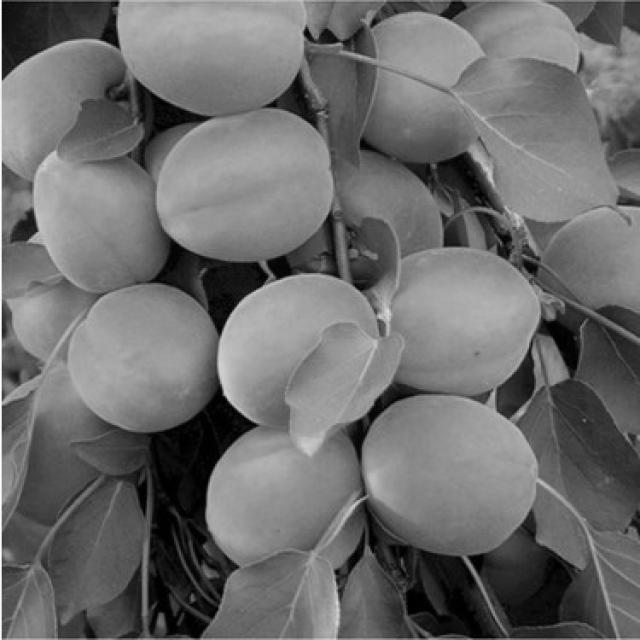Kayisi: (360, 398, 536, 553), (153, 104, 332, 255), (220, 280, 379, 433), (73, 289, 220, 435), (212, 430, 367, 564)
Kayisi Yapragi: (456, 56, 611, 224), (45, 470, 151, 622), (288, 331, 403, 449), (59, 99, 142, 163)
